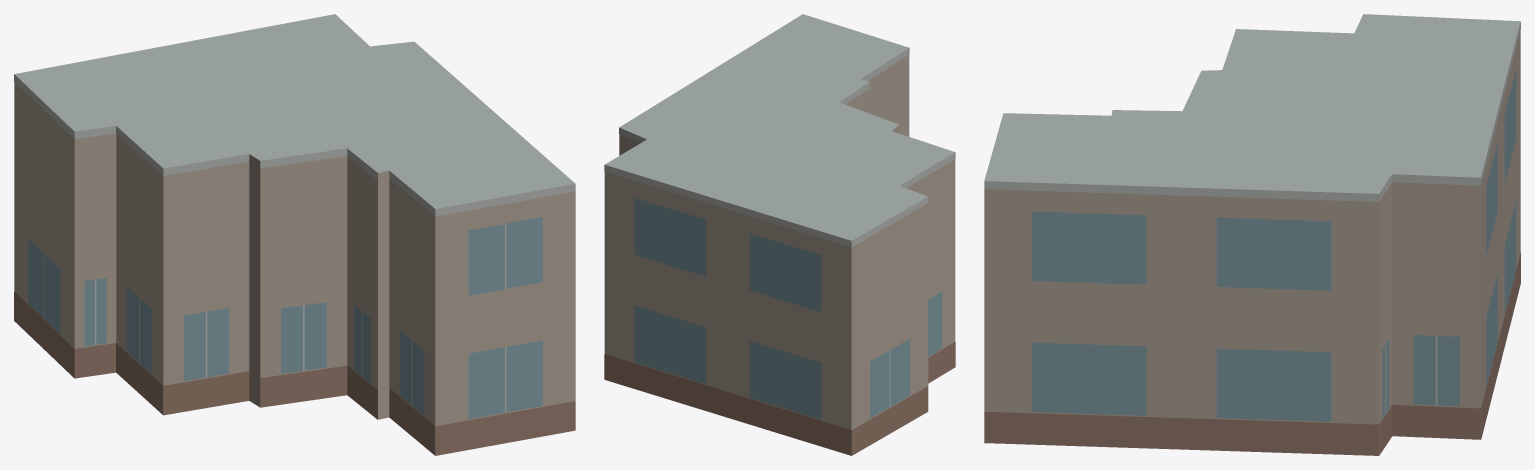
The model's file is survey-upis-33029206.glb.
The picture shows the model from 3 angles, left to right: view 1: azimuth 30°, elevation 25°; view 2: azimuth 150°, elevation 25°; view 3: azimuth 270°, elevation 25°; orthographic projection. The views are drawn at different scales.
Visible parts, largest first — view 1: survey-upis-33029206.tmp; view 2: survey-upis-33029206.tmp; view 3: survey-upis-33029206.tmp.
Part boxes in pixels (x1,y1,x2,y2): survey-upis-33029206.tmp: (14,14,575,455); survey-upis-33029206.tmp: (604,14,955,455); survey-upis-33029206.tmp: (984,14,1520,455).
Size of the model in its own units: 11.65 by 7.9 by 14.68.
